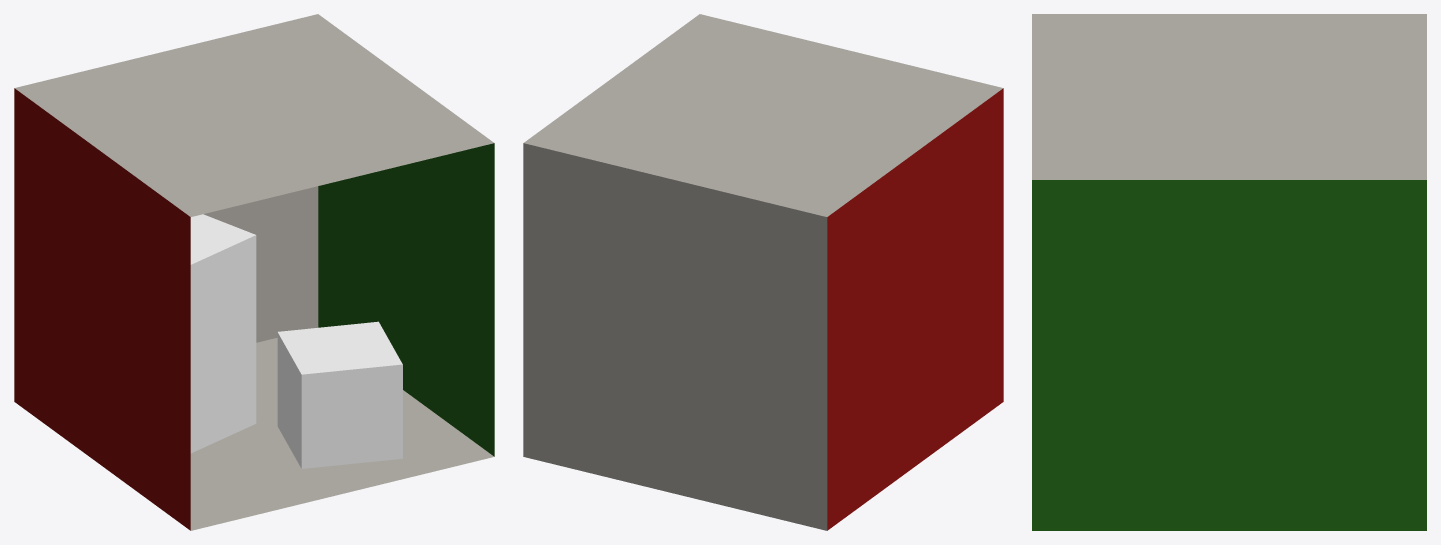
File: CBglossy.gltf
The picture shows the model from 3 angles, left to right: view 1: azimuth 30°, elevation 25°; view 2: azimuth 150°, elevation 25°; view 3: azimuth 270°, elevation 25°; orthographic projection. The views are drawn at different scales.
Visible parts, largest first — view 1: Left Wall, Ceiling, Right Wall, Floor, Short Block, Tall Block, Back Wall; view 2: Back Wall, Left Wall, Ceiling; view 3: Right Wall, Ceiling.
Part boxes in pixels (x1,y1,x2,y2): Left Wall: (14,88,190,530); Ceiling: (14,14,493,216); Right Wall: (318,143,494,456); Floor: (190,337,494,530); Short Block: (277,321,402,468); Tall Block: (190,214,256,453); Back Wall: (203,186,318,342); Back Wall: (523,143,827,530); Left Wall: (827,88,1003,530); Ceiling: (524,14,1003,216); Right Wall: (1032,180,1426,530); Ceiling: (1032,14,1426,179).
Size of the model in its own units: 5.56 by 5.49 by 5.59.
